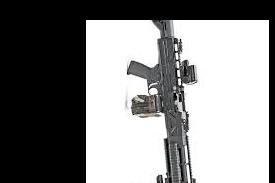larga: (127, 20, 199, 183)
